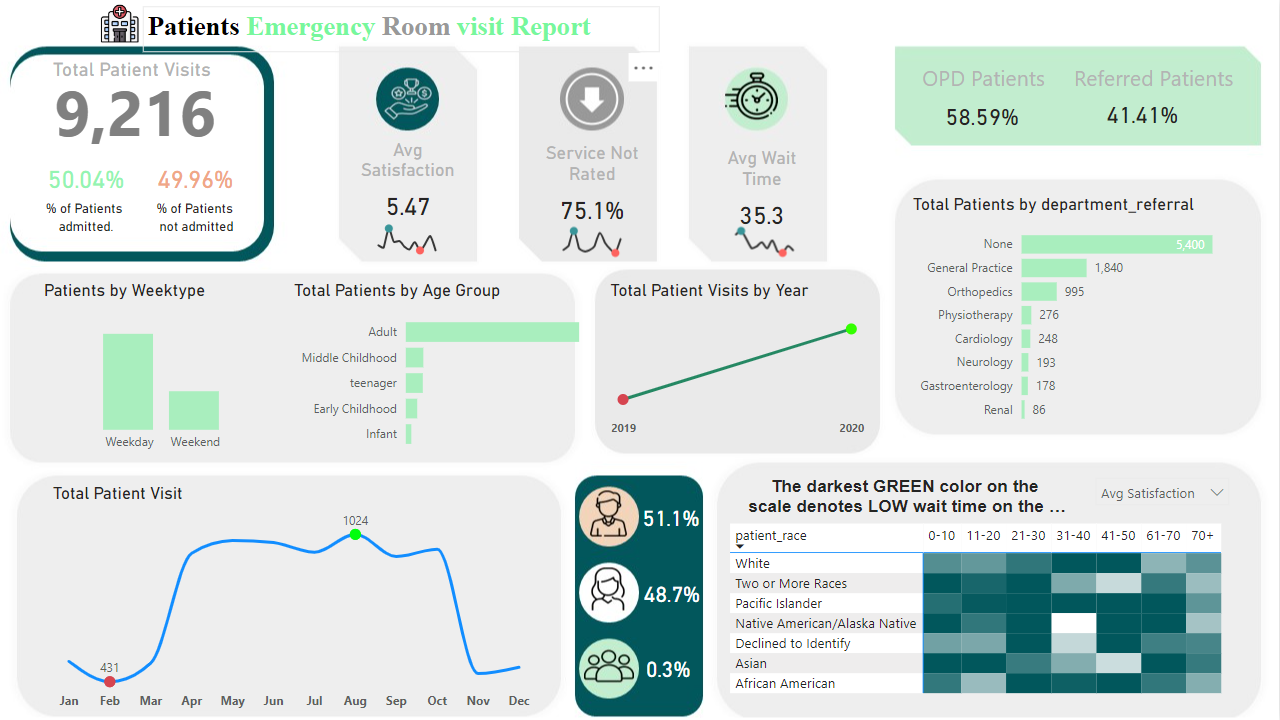

This screenshot's page, from the dashboard's own definition file:
{"tool":"powerbi","page":{"name":"Page 1","canvas":[1280,720],"ordinal":0},"visuals":[{"type":"card","fields":{"Values":["Calculation.Total Patients"]},"box":[37.1,54.3,197.1,110],"z":0},{"type":"card","fields":{"Values":["Calculation.%Non Admiistrative Schecule"]},"box":[143.6,150.5,105.7,57.6],"z":1000},{"type":"card","fields":{"Values":["Calculation.% Admiistrative Schecule"]},"box":[39.3,150.5,96.1,57.6],"z":2000},{"type":"pivotTable","fields":{"Values":["Calculation.Average Satisfaction Score"],"Rows":["Patient data.patient_race"],"Columns":["Patient data.Age Bin"]},"box":[725.7,518.6,514.3,184.3],"z":3000},{"type":"slicer","fields":{"Values":["Parameter.Avg Satisfaction and Wait time"]},"box":[1085.7,467.1,154.3,61.4],"z":4000},{"type":"clusteredBarChart","fields":{"Category":["Patient data.Age Group"],"Y":["Calculation.Total Patients"]},"box":[289.7,280.3,317.1,180],"z":5000},{"type":"lineChart","title":"Total Patient Visit","fields":{"Category":["Date.Month"],"Y":["Calculation.Total Patients","Calculation.Values Max point for month"]},"box":[48.6,482.9,492.9,237.1],"z":6000},{"type":"lineChart","title":"Total Patient Visits by Year","fields":{"Category":["Date.Year"],"Y":["Calculation.Total Patients"]},"box":[606.9,280.3,264.3,165.7],"z":7000},{"type":"clusteredBarChart","fields":{"Category":["Patient data.department_referral"],"Y":["Calculation.Total Patients"]},"box":[908.6,194.3,344.3,240],"z":8000},{"type":"card","fields":{"Values":["Avg Satisfaction and Wait time.% Referred Patients"]},"box":[1094.3,85.7,100,55.7],"z":9000},{"type":"card","fields":{"Values":["Avg Satisfaction and Wait time.% Unreferred Patients"]},"box":[917.1,88.6,131.4,55.7],"z":10000},{"type":"card","fields":{"Values":["Calculation.HitMap Caption"]},"box":[741.4,462.9,334.3,67.1],"z":11000},{"type":"textbox","box":[27.1,194.3,118.6,55.7],"z":12000},{"type":"textbox","box":[118.6,194.3,157.1,68.6],"z":13000},{"type":"card","title":"Avg Satisfaction","fields":{"Values":["Calculation.Average Satisfaction Score"]},"box":[354.3,138.6,110,92.9],"z":14000},{"type":"card","title":"Service Not Rated","fields":{"Values":["Calculation.% of no rating"]},"box":[532.9,142.9,121.4,92.9],"z":15000},{"type":"card","title":"Avg Wait Time","fields":{"Values":["Calculation.Average Wait time"]},"box":[710,147.1,105.7,92.9],"z":16000},{"type":"textbox","box":[1061.4,57.1,187.1,40],"z":17000},{"type":"textbox","box":[917.1,57.1,134.3,40],"z":18000},{"type":"columnChart","title":"Patients by Weektype","fields":{"Category":["Date.Weektype"],"Y":["Calculation.Total Patients"]},"box":[40,280,247.1,180],"z":19000},{"type":"card","fields":{"Values":["Calculation.% Male Visit"]},"box":[602.9,490,138.6,55.7],"z":20000},{"type":"card","fields":{"Values":["Calculation.% Female Visit"]},"box":[604.3,565.7,138.6,55.7],"z":21000},{"type":"card","fields":{"Values":["Calculation.% Unknown Visit"]},"box":[600,642.9,138.6,54.3],"z":22000},{"type":"textbox","box":[48.6,54.3,228.6,42.9],"z":22001},{"type":"PBI_CV_25997FEB_F466_44FA_B562_AC4063283C4C","fields":{"measure":["Calculation.Average Satisfaction Score"],"axis":["Date.Month"]},"box":[361.4,211.4,97.1,50],"z":22002},{"type":"PBI_CV_25997FEB_F466_44FA_B562_AC4063283C4C","fields":{"measure":["Calculation.% of no rating"],"axis":["Date.Month"]},"box":[545.7,214.3,97.1,50],"z":22003},{"type":"PBI_CV_25997FEB_F466_44FA_B562_AC4063283C4C","fields":{"axis":["Date.Month"],"measure":["Calculation.Average Wait time"]},"box":[718.6,214.3,97.1,50],"z":22004},{"type":"textbox","box":[144.3,5.7,515.7,47.1],"z":22005},{"type":"image","box":[78.6,0,84.3,47.1],"z":22006}]}

Visuals, with their boxes in screenshot pixels (x1, y1, x2, y2), scaled from the page's 1280x720 canvas onto the 1280x720 screenshot:
card - Calculation.Total Patients: pyautogui.locateOnScreen(37, 54, 234, 164)
card - Calculation.%Non Admiistrative Schecule: pyautogui.locateOnScreen(144, 150, 249, 208)
card - Calculation.% Admiistrative Schecule: pyautogui.locateOnScreen(39, 150, 135, 208)
pivotTable - Calculation.Average Satisfaction Score x Patient data.patient_race: pyautogui.locateOnScreen(726, 519, 1240, 703)
slicer - Parameter.Avg Satisfaction and Wait time: pyautogui.locateOnScreen(1086, 467, 1240, 528)
clusteredBarChart - Patient data.Age Group x Calculation.Total Patients: pyautogui.locateOnScreen(290, 280, 607, 460)
"Total Patient Visit" lineChart: pyautogui.locateOnScreen(49, 483, 542, 719)
"Total Patient Visits by Year" lineChart: pyautogui.locateOnScreen(607, 280, 871, 446)
clusteredBarChart - Patient data.department_referral x Calculation.Total Patients: pyautogui.locateOnScreen(909, 194, 1253, 434)
card - Avg Satisfaction and Wait time.% Referred Patients: pyautogui.locateOnScreen(1094, 86, 1194, 141)
card - Avg Satisfaction and Wait time.% Unreferred Patients: pyautogui.locateOnScreen(917, 89, 1048, 144)
card - Calculation.HitMap Caption: pyautogui.locateOnScreen(741, 463, 1076, 530)
textbox: pyautogui.locateOnScreen(27, 194, 146, 250)
textbox: pyautogui.locateOnScreen(119, 194, 276, 263)
"Avg Satisfaction" card: pyautogui.locateOnScreen(354, 139, 464, 232)
"Service Not Rated" card: pyautogui.locateOnScreen(533, 143, 654, 236)
"Avg Wait Time" card: pyautogui.locateOnScreen(710, 147, 816, 240)
textbox: pyautogui.locateOnScreen(1061, 57, 1248, 97)
textbox: pyautogui.locateOnScreen(917, 57, 1051, 97)
"Patients by Weektype" columnChart: pyautogui.locateOnScreen(40, 280, 287, 460)
card - Calculation.% Male Visit: pyautogui.locateOnScreen(603, 490, 742, 546)
card - Calculation.% Female Visit: pyautogui.locateOnScreen(604, 566, 743, 621)
card - Calculation.% Unknown Visit: pyautogui.locateOnScreen(600, 643, 739, 697)
textbox: pyautogui.locateOnScreen(49, 54, 277, 97)
PBI_CV_25997FEB_F466_44FA_B562_AC4063283C4C - Calculation.Average Satisfaction Score x Date.Month: pyautogui.locateOnScreen(361, 211, 458, 261)
PBI_CV_25997FEB_F466_44FA_B562_AC4063283C4C - Calculation.% of no rating x Date.Month: pyautogui.locateOnScreen(546, 214, 643, 264)
PBI_CV_25997FEB_F466_44FA_B562_AC4063283C4C - Date.Month x Calculation.Average Wait time: pyautogui.locateOnScreen(719, 214, 816, 264)
textbox: pyautogui.locateOnScreen(144, 6, 660, 53)
image: pyautogui.locateOnScreen(79, 0, 163, 47)
